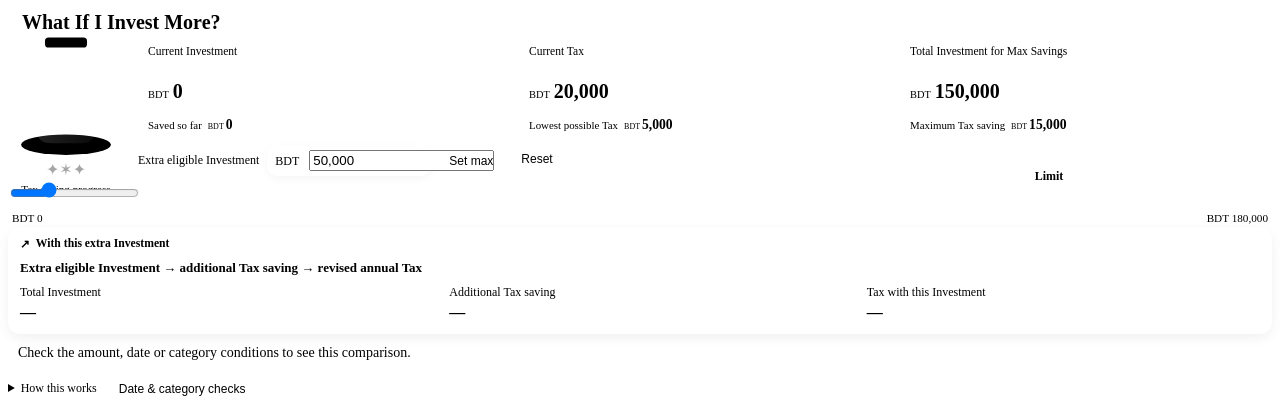
approved savings-first simulator › preserves amount replacement, pasted grouping and decimals in en
Replace the text in the field labelled "Extra eligible Investment" with "150,000.25" at (402, 160), box [309,150,494,171]
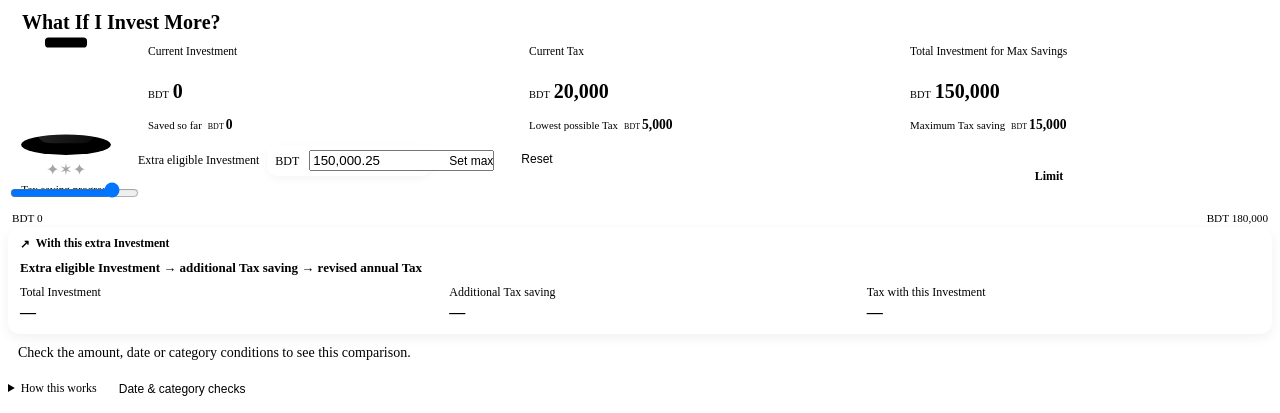
Leave the field labelled "Extra eligible Investment", box [309,150,494,171]
Click the button with aria-label "Set max: BDT 150,000" at (471, 161), box [439,146,503,176]
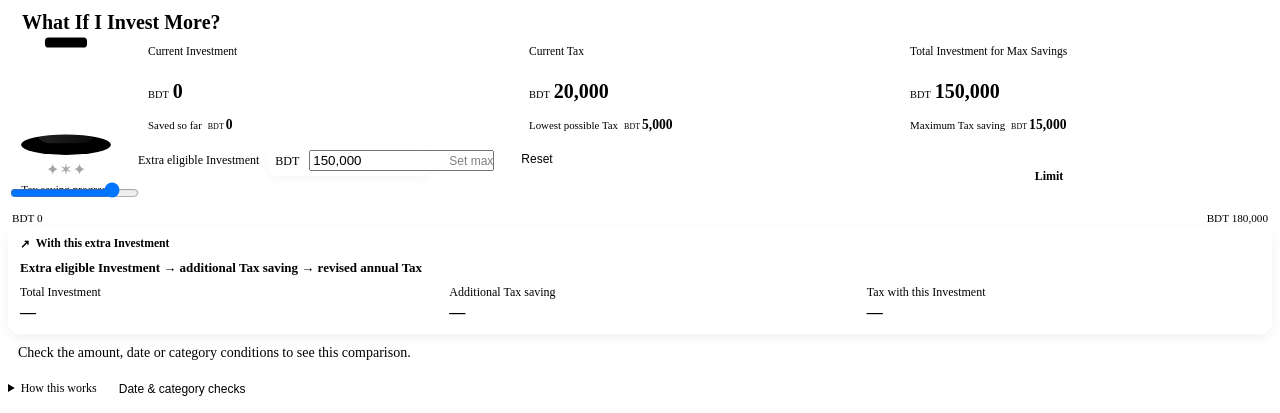
Expected: the field labelled "Extra eligible Investment" holds "150,000", [309,150,494,171]
